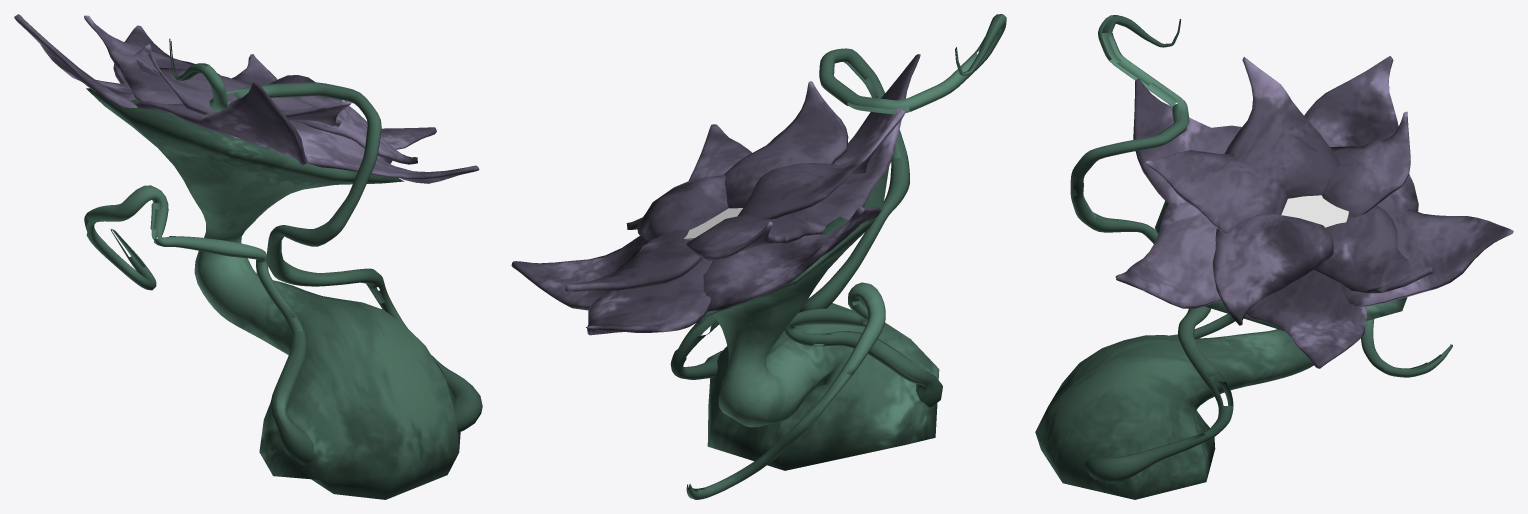
The model's file is DelugeDead.fbx.
The picture shows the model from 3 angles, left to right: view 1: azimuth 30°, elevation 25°; view 2: azimuth 150°, elevation 25°; view 3: azimuth 270°, elevation 25°; orthographic projection. The views are drawn at different scales.
Visible parts, largest first — view 1: Deluge; view 2: Deluge; view 3: Deluge.
Boxes of the visible parts, box(x1,y1,x2,y2) form: Deluge: box(14, 14, 482, 499); Deluge: box(511, 14, 1006, 499); Deluge: box(1035, 15, 1513, 499).
Size of the model in its own units: 1260 by 1411 by 1592.
2 materials, 1 textured.
